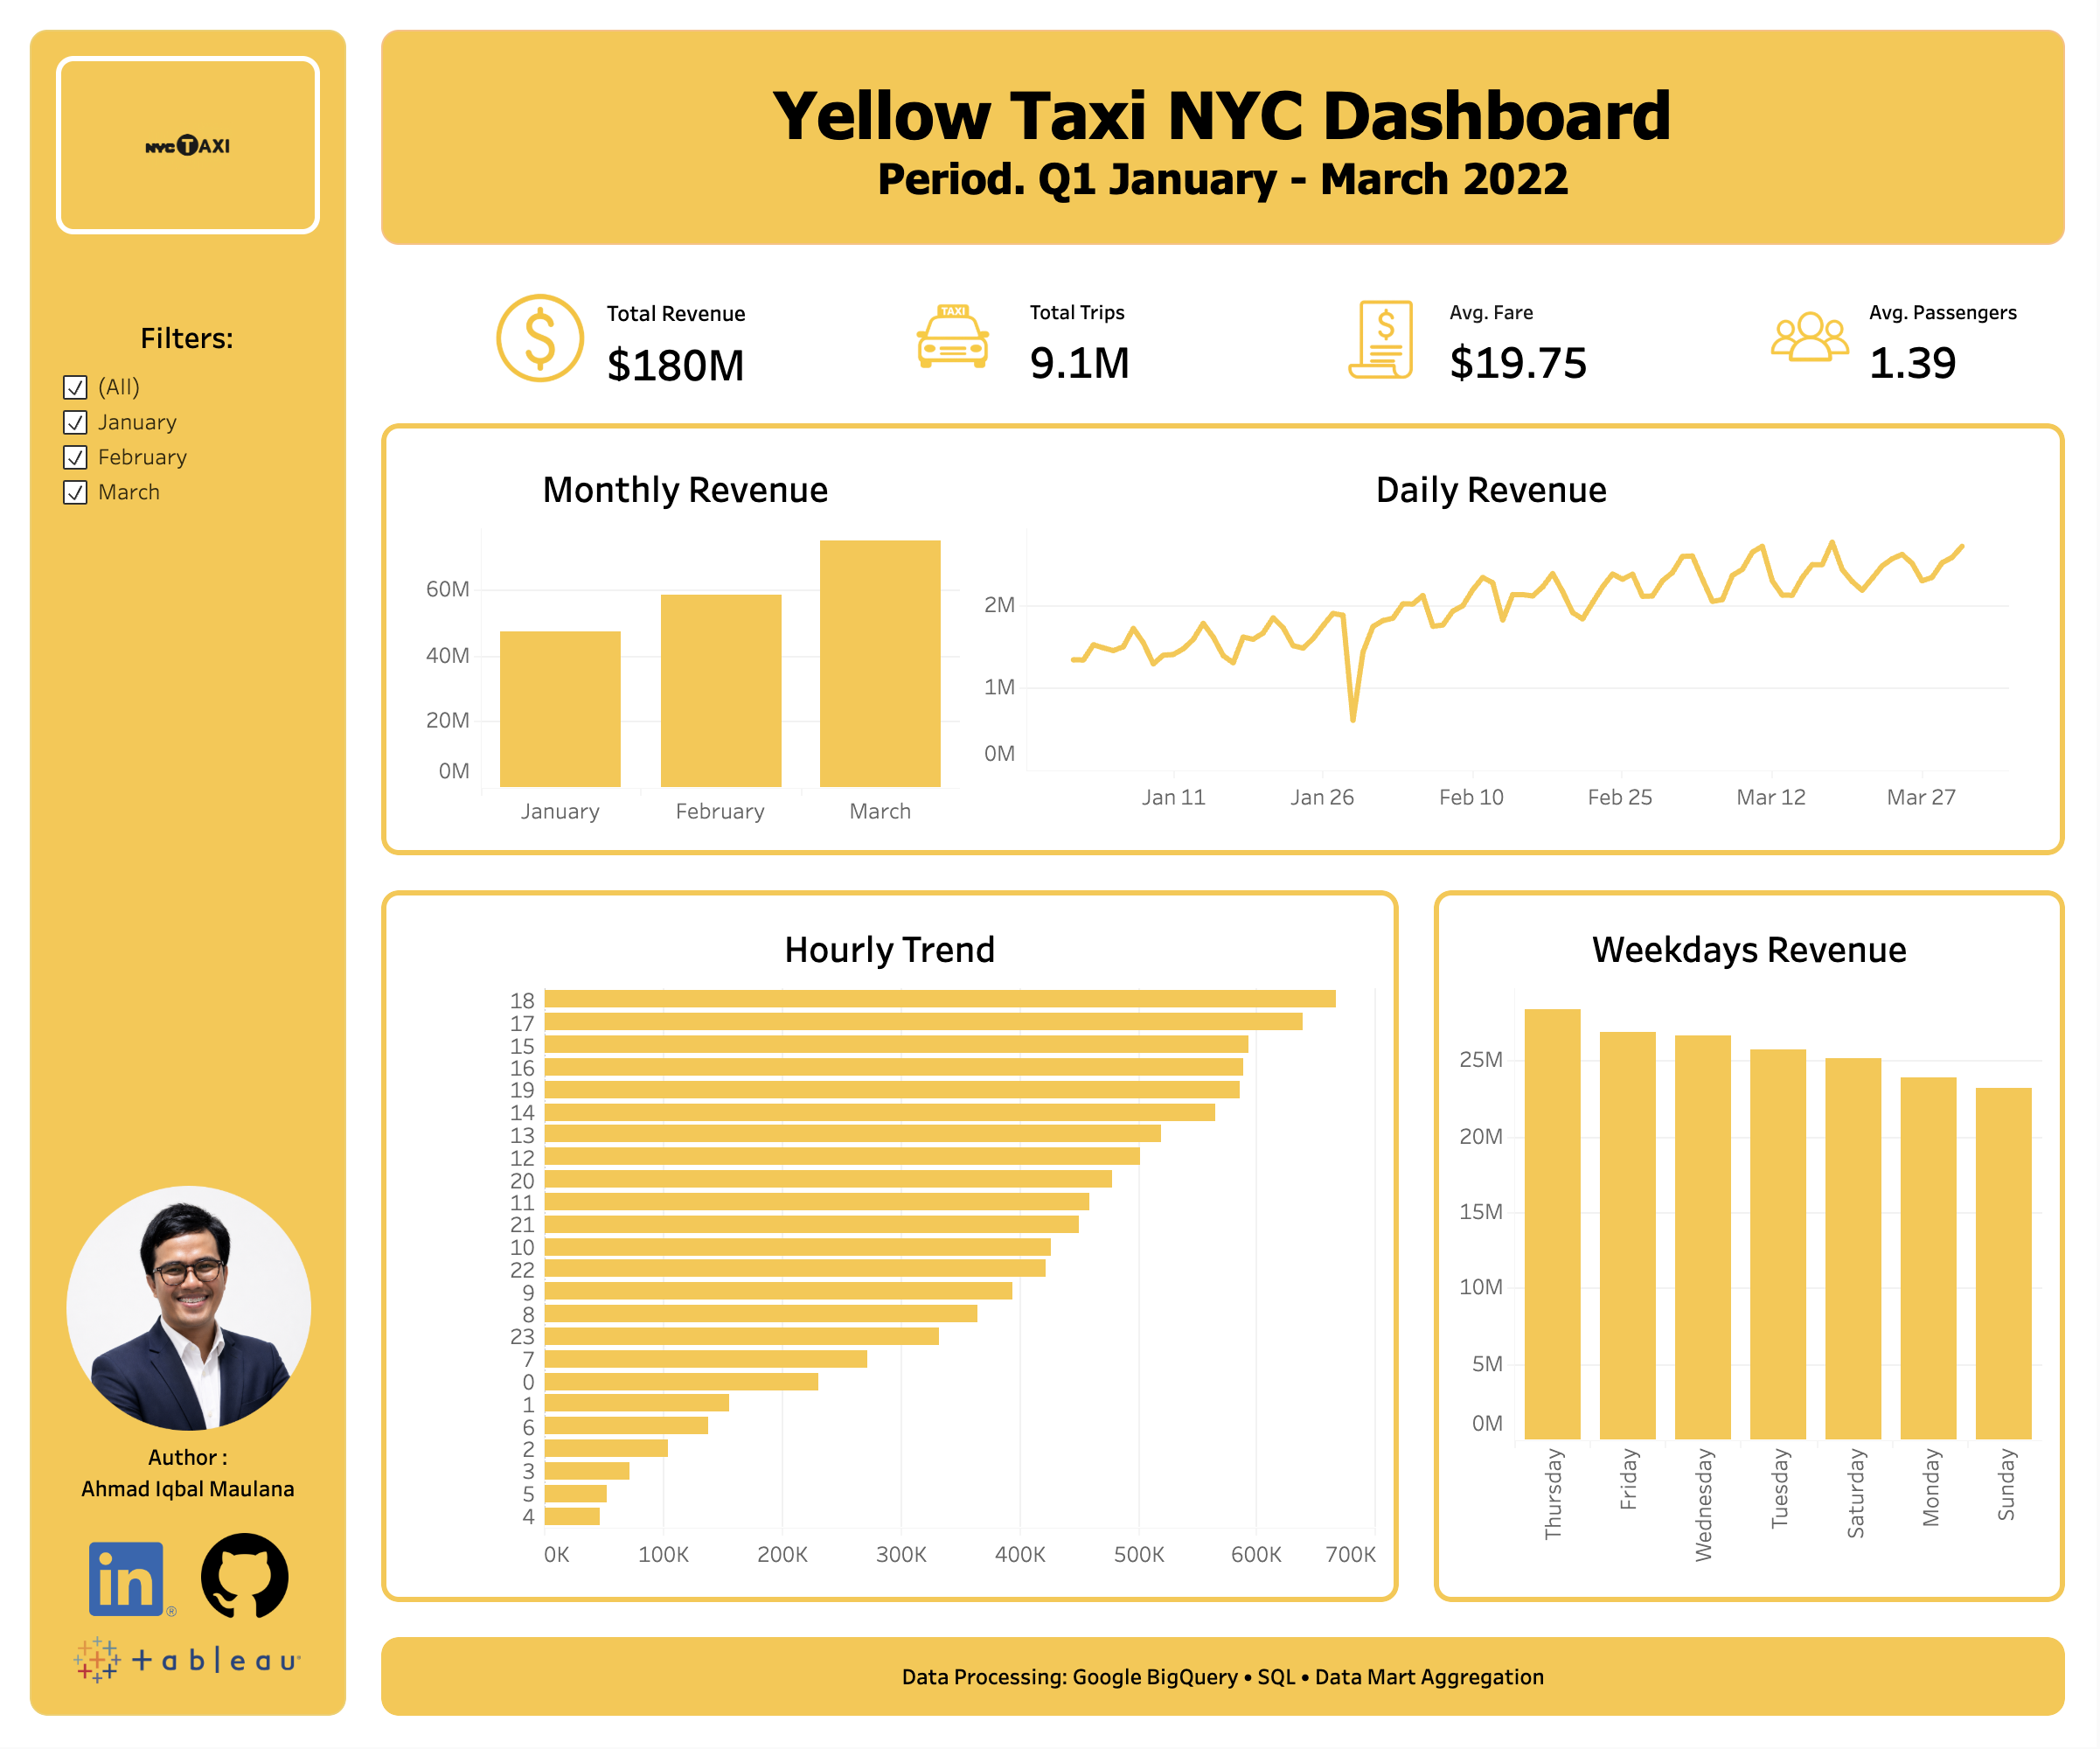

The page's visual inventory and layout, read from the dashboard file:
{"tool":"tableau","page":{"name":"Dashboard 1","canvas":[1200,1000],"ordinal":0},"visuals":[{"type":"text","box":[209.3,8,982.7,143.1]},{"type":"image","param":"/Users/Iqbal/Downloads/nyc taxi scale.png","box":[29,29,159.3,110]},{"type":"blank","box":[29,139,159.3,32]},{"type":"blank","box":[219,161,121,62]},{"type":"image","param":"/Users/Iqbal/Downloads/revenue icon.png","box":[275,161,70,70]},{"type":"worksheet","title":"KPI_01_Total_Revenue","mark":"Automatic","box":[340,161,121,62]},{"type":"blank","box":[461,161,121,62]},{"type":"image","param":"/Users/Iqbal/Downloads/trips icon.png","box":[511,161,70,70]},{"type":"worksheet","title":"KPI_02_Total_Trips","mark":"Automatic","box":[582,161,120,62]},{"type":"blank","box":[702,161,120,62]},{"type":"image","param":"/Users/Iqbal/Downloads/fare icon.png","box":[757,161,70,70]},{"type":"worksheet","title":"KPI_03_Avg._Trip_Value","mark":"Automatic","box":[822,161,120,62]},{"type":"blank","box":[942,161,120,62]},{"type":"image","param":"/Users/Iqbal/Downloads/passengers icon.png","box":[1001,161,70,70]},{"type":"worksheet","title":"KPI_04_Avg._Passengers","mark":"Automatic","box":[1062,161,120,62]},{"type":"worksheet","title":"Month_Filter","mark":"Automatic","box":[29,171,159.3,37]},{"type":"filter","title":"Month_Filter","param":"[federated.1x032jo1e4dn201f6n1420bmikgr].[none:trip_month_name:nk]","box":[29,208,159.3,613]},{"type":"worksheet","title":"Monthly_Revenue","mark":"Automatic","rows":["total_revenue"],"cols":["trip_month_name"],"box":[232.3,256,322,221]},{"type":"worksheet","title":"Daily_Revenue","mark":"Automatic","rows":["total_revenue"],"cols":["trip_date"],"box":[554.3,256,600,221]},{"type":"worksheet","title":"Hour_Trend","mark":"Automatic","rows":["trip_hour"],"cols":["total_trips"],"box":[209.3,500,601.7,427]},{"type":"worksheet","title":"Weekday_Revenue","mark":"Automatic","rows":["total_revenue"],"cols":["trip_weekday"],"box":[811,500,381,427]},{"type":"image","param":"/Users/Iqbal/Pictures/Profile Pict Bulat.png","box":[39,679,140,140]},{"type":"text","box":[29,821,159.3,42]},{"type":"image","param":"/Users/Iqbal/Downloads/GitHub logo.png","box":[116,877,50,50]},{"type":"image","param":"/Users/Iqbal/Downloads/Linkedin logo.png","box":[52,879,50,50]},{"type":"image","param":"/Users/Iqbal/Downloads/Tableau_Logo.png","box":[43,925,130,50]},{"type":"text","box":[227.3,945,946.7,29]}]}

Visuals, with their boxes in screenshot pixels (x1, y1, x2, y2), scaled from the page's 1200x1000 canvas onto the 2100x1749 screenshot:
text: box(366, 14, 2086, 264)
image: box(51, 51, 330, 243)
blank: box(51, 243, 330, 299)
blank: box(383, 282, 595, 390)
image: box(481, 282, 604, 404)
"KPI_01_Total_Revenue" worksheet: box(595, 282, 807, 390)
blank: box(807, 282, 1019, 390)
image: box(894, 282, 1017, 404)
"KPI_02_Total_Trips" worksheet: box(1019, 282, 1228, 390)
blank: box(1228, 282, 1438, 390)
image: box(1325, 282, 1447, 404)
"KPI_03_Avg._Trip_Value" worksheet: box(1438, 282, 1649, 390)
blank: box(1649, 282, 1859, 390)
image: box(1752, 282, 1874, 404)
"KPI_04_Avg._Passengers" worksheet: box(1859, 282, 2069, 390)
"Month_Filter" worksheet: box(51, 299, 330, 364)
"Month_Filter" filter: box(51, 364, 330, 1436)
"Monthly_Revenue" worksheet: box(407, 448, 970, 834)
"Daily_Revenue" worksheet: box(970, 448, 2020, 834)
"Hour_Trend" worksheet: box(366, 874, 1419, 1621)
"Weekday_Revenue" worksheet: box(1419, 874, 2086, 1621)
image: box(68, 1188, 313, 1432)
text: box(51, 1436, 330, 1509)
image: box(203, 1534, 290, 1621)
image: box(91, 1537, 178, 1625)
image: box(75, 1618, 302, 1705)
text: box(398, 1653, 2055, 1704)
